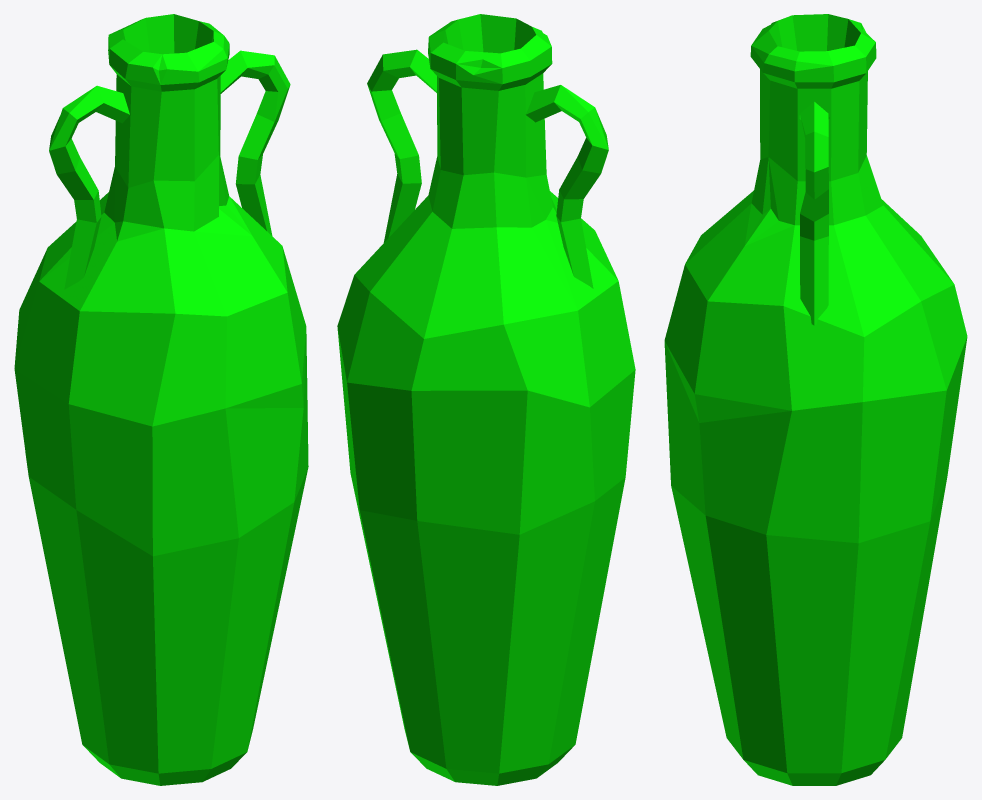
The model's file is SM_Vase_Ceramic_Tall_A_Fantasy.fbx.
3 renders of one model, left to right at view 1: azimuth 30°, elevation 25°; view 2: azimuth 150°, elevation 25°; view 3: azimuth 270°, elevation 25°, orthographic.
Visible parts, largest first — view 1: vase-ceramic-tall-a-fantasy; view 2: vase-ceramic-tall-a-fantasy; view 3: vase-ceramic-tall-a-fantasy.
Part boxes in pixels (x1,y1,x2,y2): vase-ceramic-tall-a-fantasy: [14, 14, 308, 785]; vase-ceramic-tall-a-fantasy: [337, 14, 635, 785]; vase-ceramic-tall-a-fantasy: [664, 14, 967, 785].
Bounding box in the file's own units: 0.3432 × 0.9285 × 0.3515.
